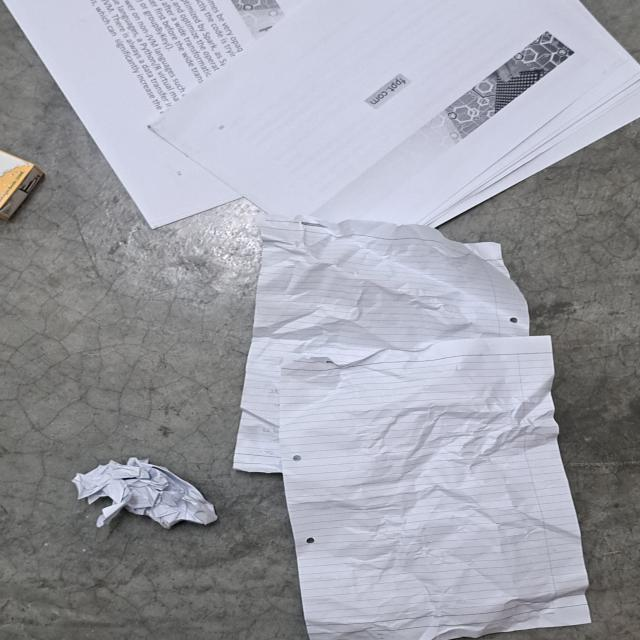paper: (233, 216, 593, 640), (0, 0, 640, 233), (73, 457, 218, 531)
